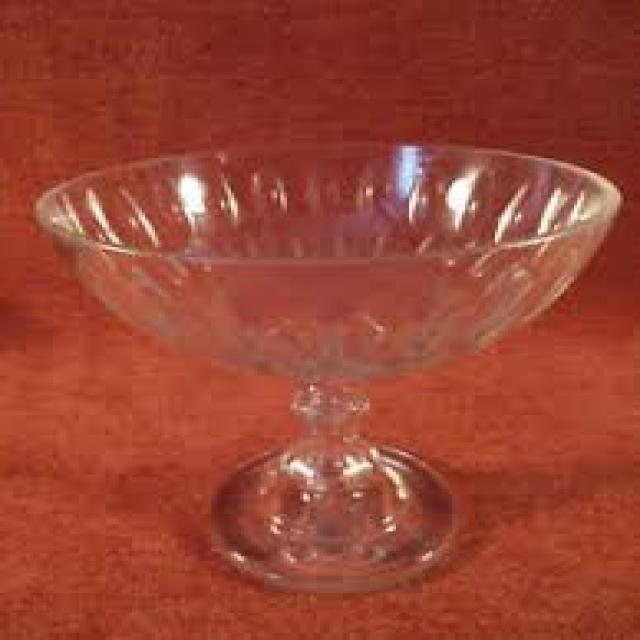glass: (33, 138, 614, 586)
